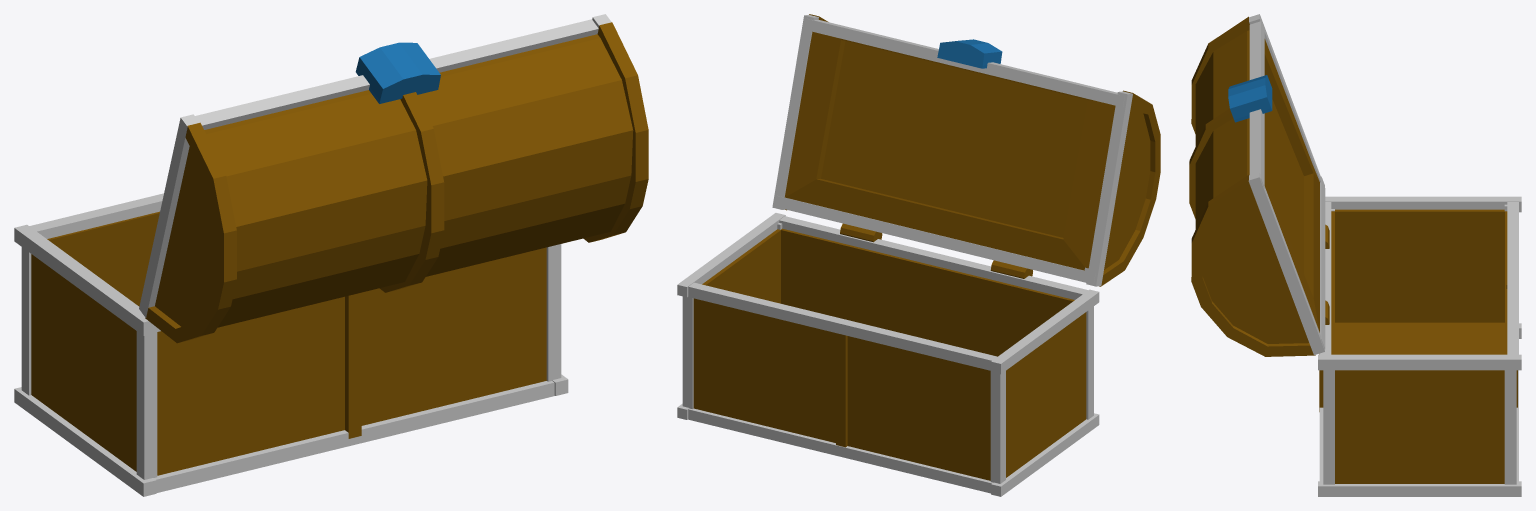
File: Chest.fbx
3 views of the same model, side by side, from view 1: azimuth 30°, elevation 25°; view 2: azimuth 150°, elevation 25°; view 3: azimuth 270°, elevation 25° (orthographic). The views are drawn at different scales.
Parts seen in each view (by area): view 1: Cube.001; view 2: Cube.001; view 3: Cube.001.
Part boxes in pixels (x1,y1,x2,y2): Cube.001: [14, 14, 648, 496]; Cube.001: [677, 14, 1160, 496]; Cube.001: [1189, 14, 1521, 496].
Size of the model in its own units: 454 by 435 by 391.
